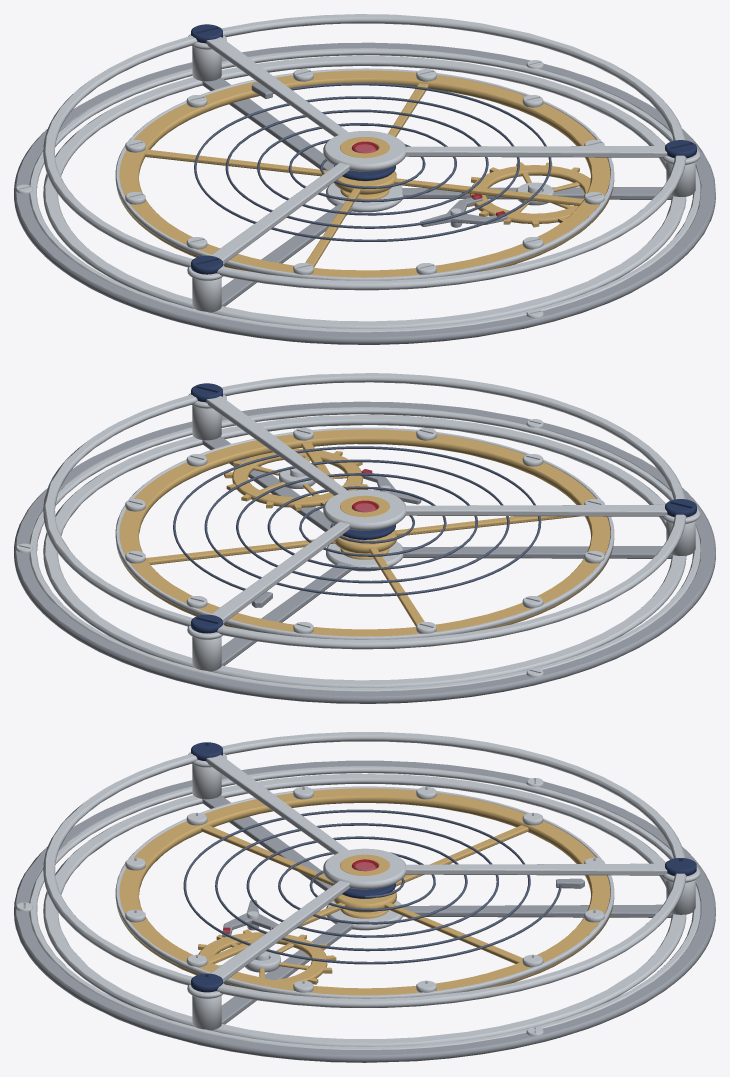
File: tourbillon-lite.glb
The picture shows the model from 3 angles, top to bottom: view 1: azimuth 30°, elevation 25°; view 2: azimuth 150°, elevation 25°; view 3: azimuth 270°, elevation 25°; orthographic projection.
Visible parts, largest first — view 1: tb_fixed_seat_ring, tb_lower_cage_ring, tb_upper_cage_ring, tb_balance_rim, tb_fixed_inner_chamfer, tb_hairspring_spiral, tb_balance_highlight, tb_upper_cage_arm_2, tb_escape_rim, tb_upper_cage_arm_0, tb_upper_cage_arm_1, tb_upper_cage_hub (+14 smaller); view 2: tb_fixed_seat_ring, tb_lower_cage_ring, tb_upper_cage_ring, tb_balance_rim, tb_fixed_inner_chamfer, tb_hairspring_spiral, tb_balance_highlight, tb_upper_cage_arm_1, tb_lower_cage_arm_1, tb_upper_cage_arm_2, tb_escape_rim, tb_upper_cage_arm_0 (+12 smaller); view 3: tb_fixed_seat_ring, tb_lower_cage_ring, tb_upper_cage_ring, tb_balance_rim, tb_fixed_inner_chamfer, tb_hairspring_spiral, tb_balance_highlight, tb_upper_cage_arm_0, tb_lower_cage_arm_0, tb_upper_cage_arm_1, tb_upper_cage_arm_2, tb_upper_cage_hub (+14 smaller).
Part boxes in pixels (x1,y1,x2,y2): tb_fixed_seat_ring: [14, 42, 715, 344]; tb_lower_cage_ring: [43, 55, 686, 328]; tb_upper_cage_ring: [43, 14, 686, 290]; tb_balance_rim: [117, 70, 612, 277]; tb_fixed_inner_chamfer: [29, 48, 700, 332]; tb_hairspring_spiral: [194, 83, 551, 241]; tb_balance_highlight: [115, 68, 614, 280]; tb_upper_cage_arm_2: [406, 145, 668, 157]; tb_escape_rim: [470, 165, 590, 223]; tb_upper_cage_arm_0: [205, 37, 347, 136]; tb_upper_cage_arm_1: [210, 163, 349, 264]; tb_upper_cage_hub: [323, 131, 405, 171]; tb_fixed_seat_ring: [14, 401, 715, 703]; tb_lower_cage_ring: [43, 414, 686, 687]; tb_upper_cage_ring: [43, 373, 686, 649]; tb_balance_rim: [117, 429, 612, 636]; tb_fixed_inner_chamfer: [29, 407, 700, 691]; tb_hairspring_spiral: [173, 446, 541, 596]; tb_balance_highlight: [115, 427, 614, 639]; tb_upper_cage_arm_1: [406, 504, 668, 516]; tb_lower_cage_arm_1: [402, 546, 672, 558]; tb_upper_cage_arm_2: [206, 396, 348, 495]; tb_escape_rim: [232, 448, 362, 507]; tb_upper_cage_arm_0: [210, 521, 349, 623]; tb_fixed_seat_ring: [14, 760, 715, 1062]; tb_lower_cage_ring: [43, 774, 686, 1046]; tb_upper_cage_ring: [43, 732, 686, 1007]; tb_balance_rim: [116, 788, 612, 995]; tb_fixed_inner_chamfer: [29, 766, 700, 1049]; tb_hairspring_spiral: [183, 809, 561, 964]; tb_balance_highlight: [115, 786, 614, 998]; tb_upper_cage_arm_0: [406, 863, 668, 875]; tb_lower_cage_arm_0: [402, 904, 671, 917]; tb_upper_cage_arm_1: [206, 754, 348, 854]; tb_upper_cage_arm_2: [210, 880, 349, 982]; tb_upper_cage_hub: [323, 848, 405, 889].
Size of the model in its own units: 8.6 by 0.695 by 8.6.
